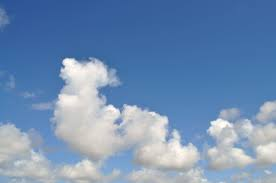sky: (2, 2, 276, 182)
